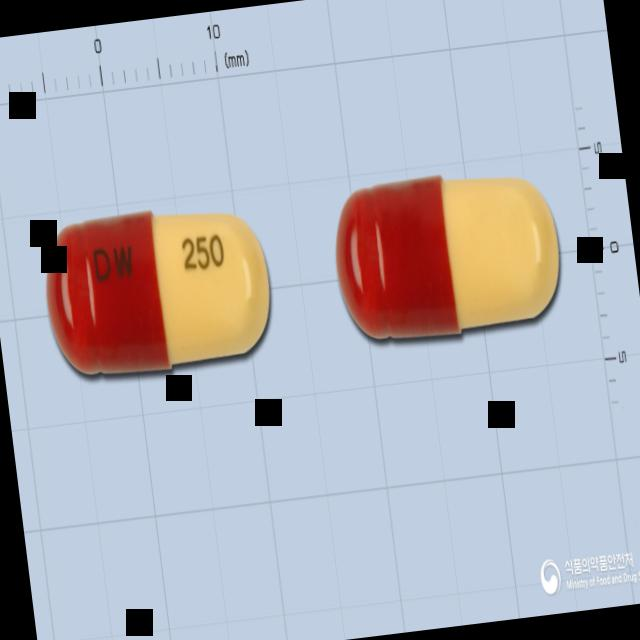Ciprofloxacin HCl Tab- Unimed: (327, 160, 569, 350), (36, 194, 279, 383)
